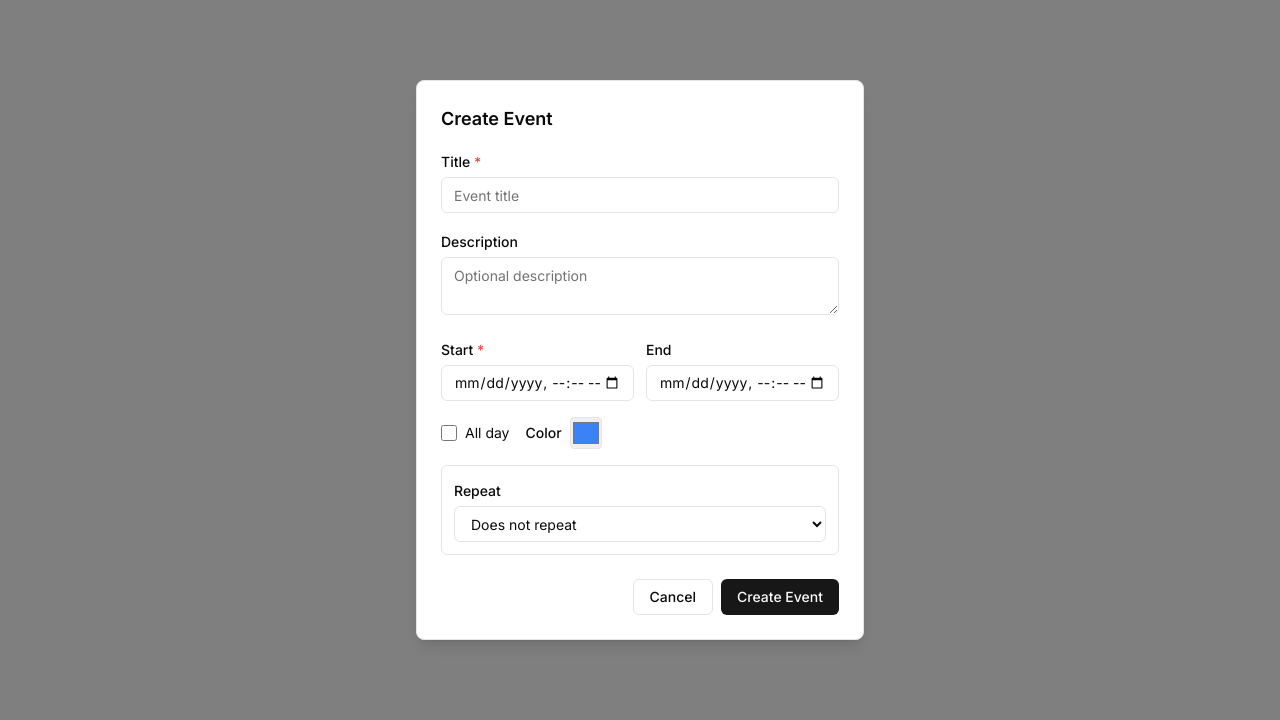
Test: EventFormDialog › recurrence picker › shows interval input when recurrence is selected
Select "Weekly" in the dropdown labelled "Repeat": (640, 524) [454,506,826,542]
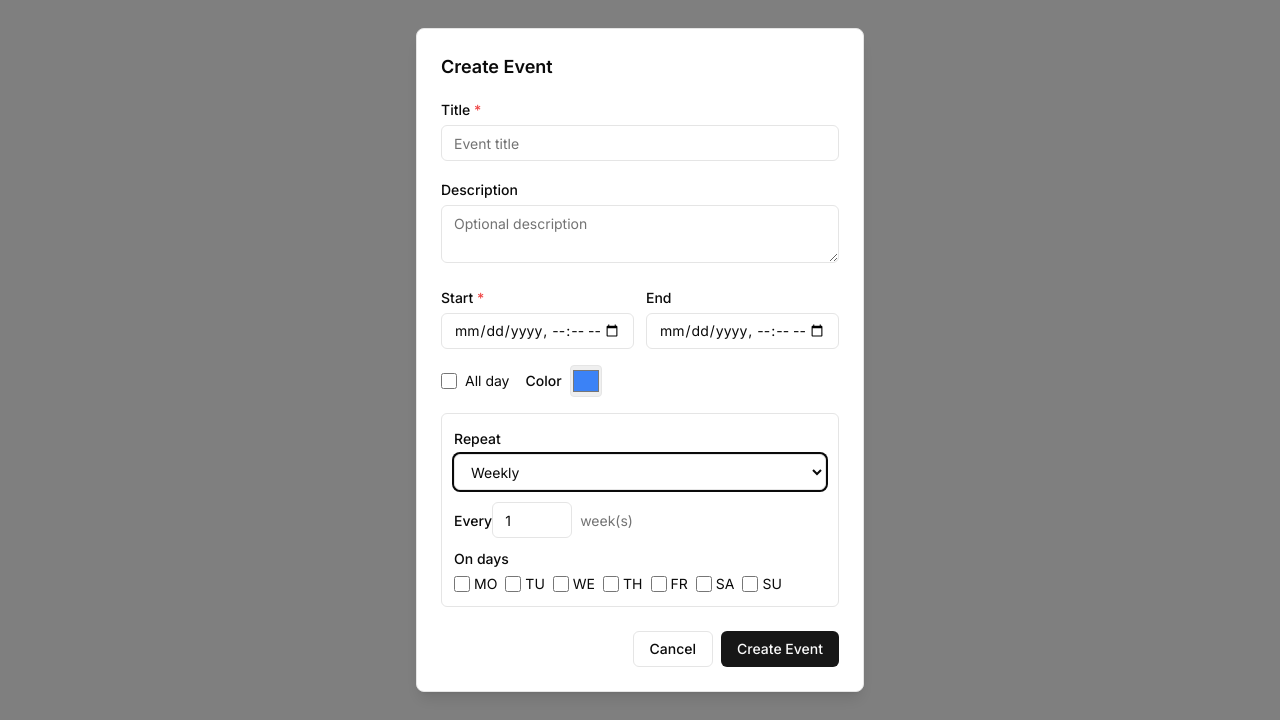
Result: the number field labelled "Every" is shown at [492,502,572,538]
